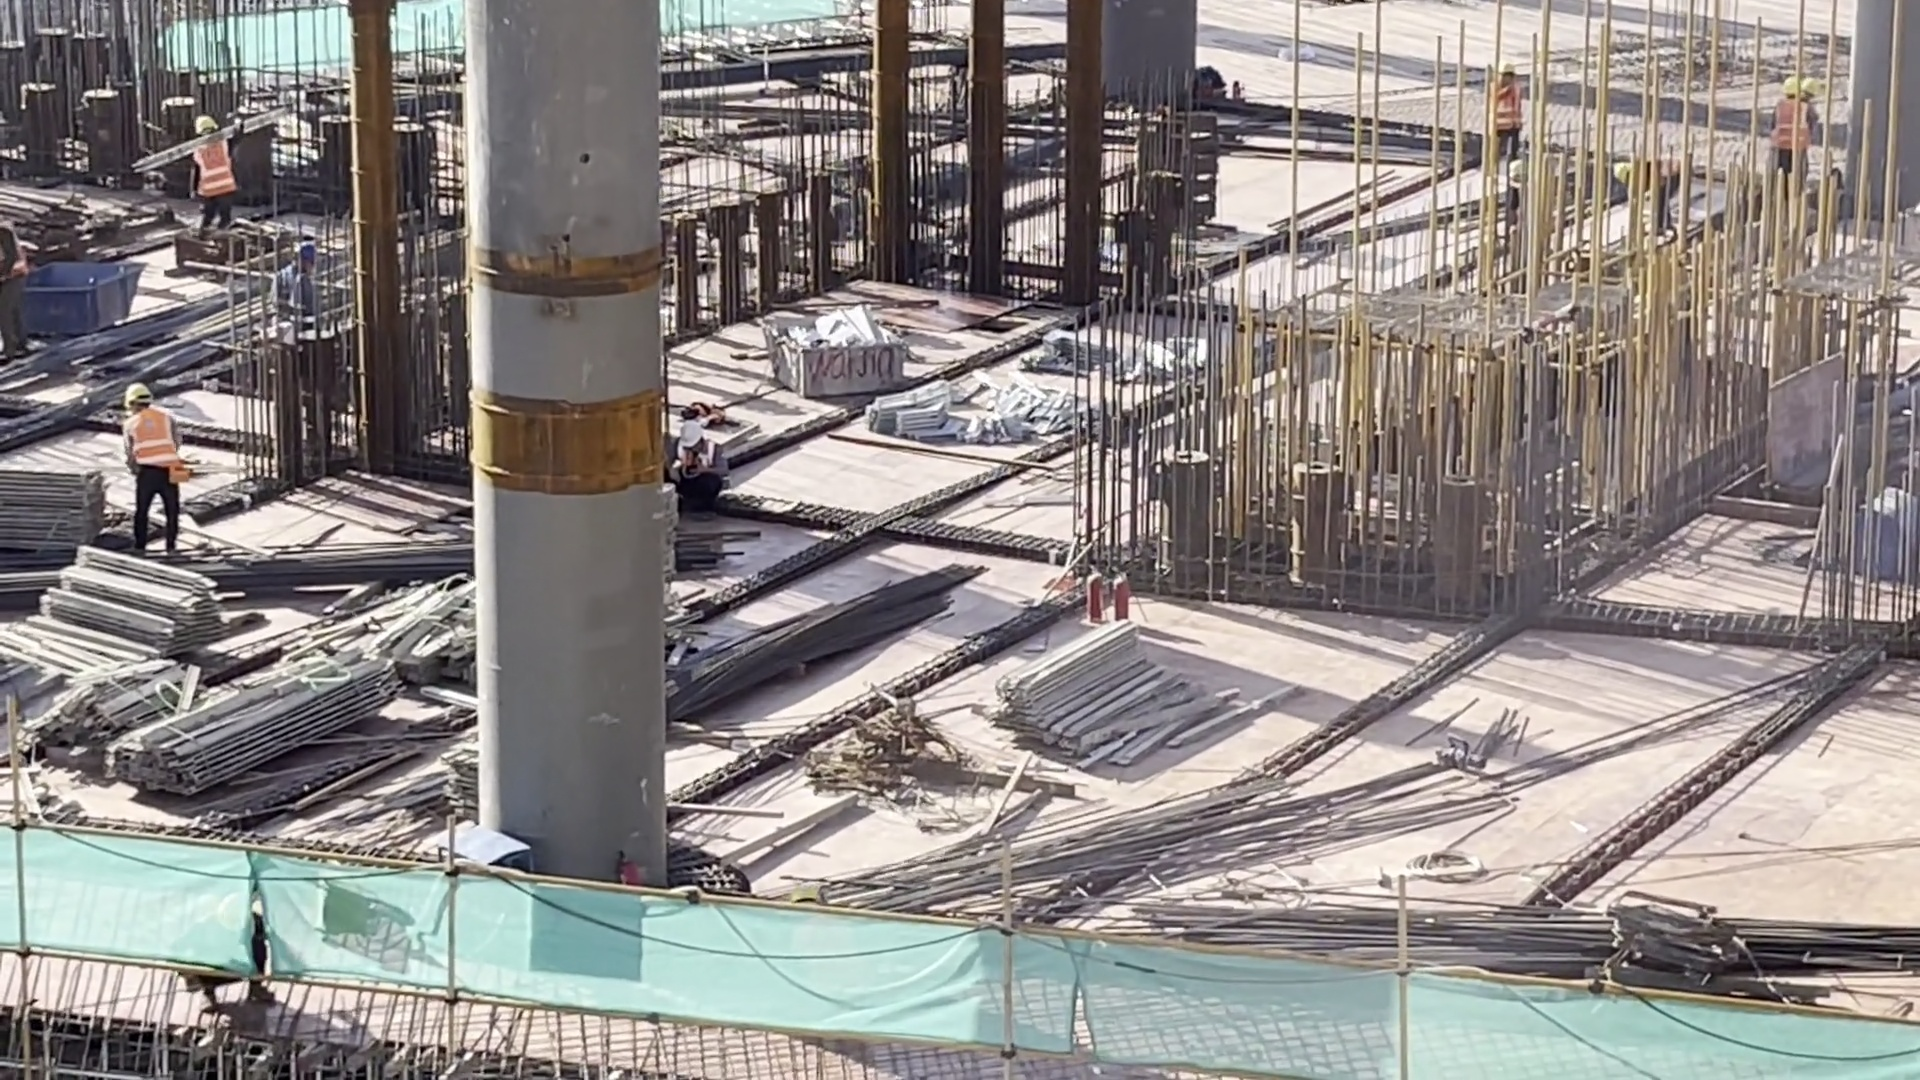helmet: (682, 411, 708, 454), (189, 111, 219, 131), (130, 382, 148, 413)
hopper: (762, 293, 911, 402), (1, 257, 145, 337)
person: (107, 365, 188, 546), (182, 108, 263, 250), (1766, 53, 1838, 198), (666, 412, 730, 512), (1489, 56, 1528, 164)
vest: (125, 406, 175, 468), (1780, 90, 1810, 152), (199, 141, 228, 194), (1495, 87, 1522, 123)
wood: (117, 627, 397, 815), (981, 604, 1196, 765), (30, 537, 234, 654), (1, 453, 115, 572)
